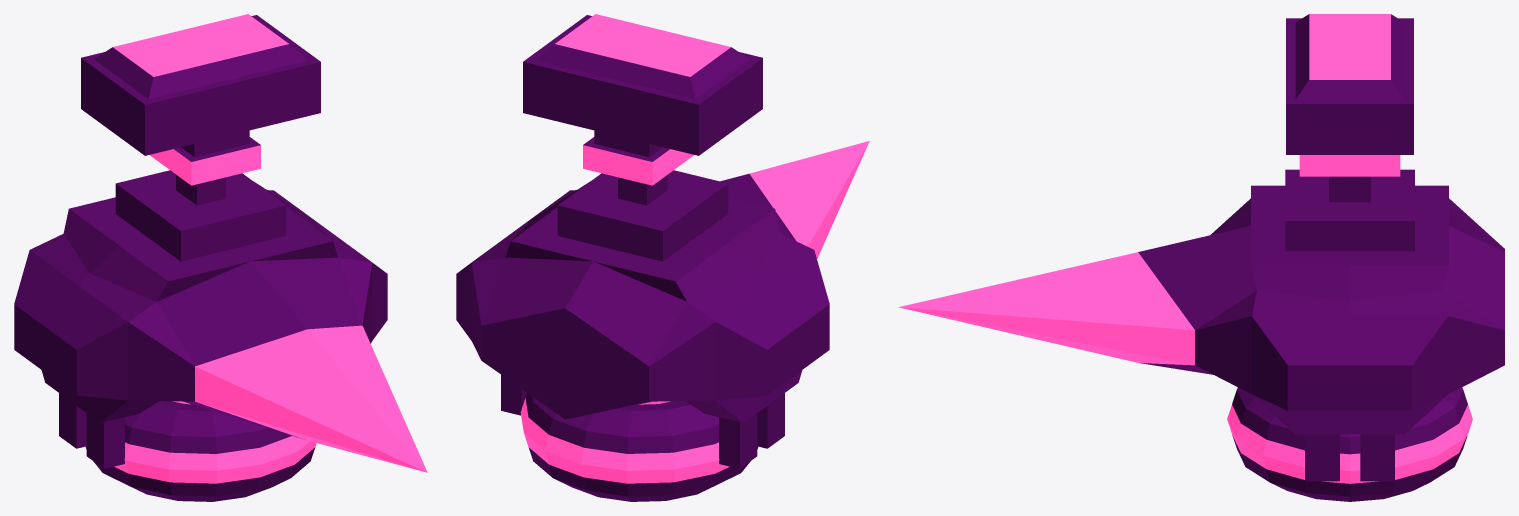
Rendered from enemy.glb.
The picture shows the model from 3 angles, left to right: view 1: azimuth 30°, elevation 25°; view 2: azimuth 150°, elevation 25°; view 3: azimuth 270°, elevation 25°; orthographic projection.
Parts seen in each view (by area): view 1: Body, Wheel; view 2: Body, Wheel; view 3: Body, Wheel.
Boxes of the visible parts, left/top/right/bottom form: Body: left=14, top=14, right=427, bottom=472; Wheel: left=85, top=401, right=316, bottom=501; Body: left=456, top=14, right=869, bottom=468; Wheel: left=520, top=393, right=758, bottom=501; Body: left=898, top=14, right=1504, bottom=481; Wheel: left=1227, top=387, right=1472, bottom=501.
Size of the model in its own units: 2.39 by 3.08 by 4.05.
